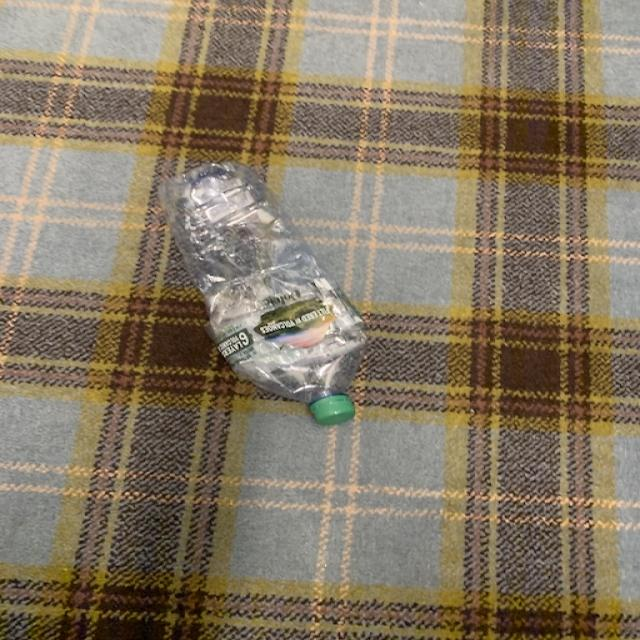Waste: (160, 163, 366, 424)
